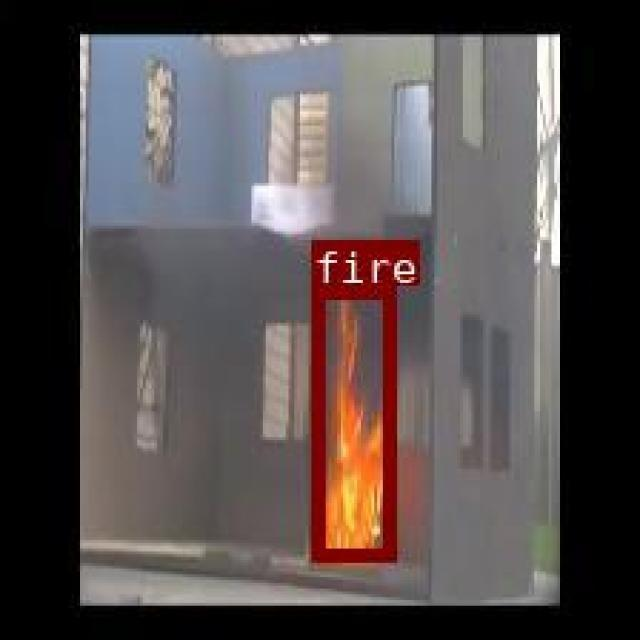fire: (310, 285, 393, 560)
